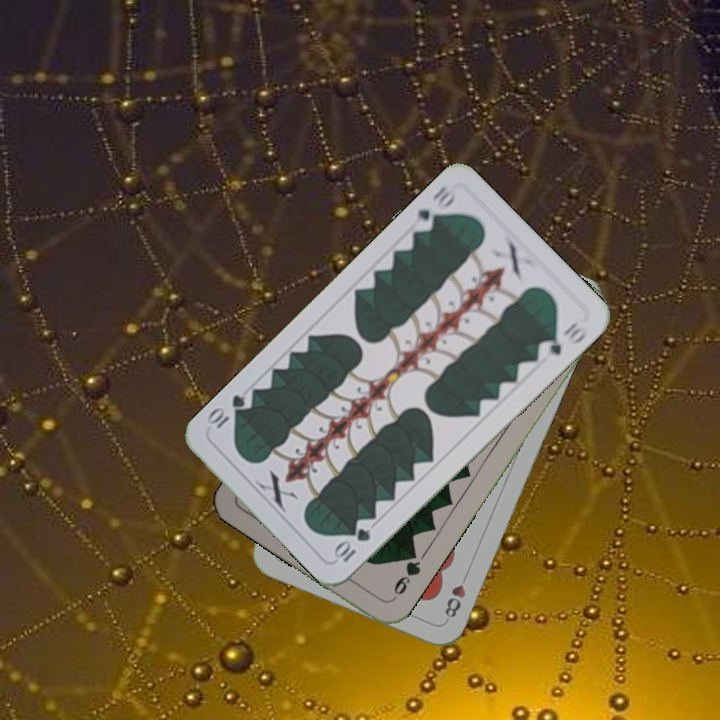G10: (408, 181, 458, 235), (330, 524, 374, 565)
G9: (387, 546, 424, 603)
H8: (440, 568, 471, 621)
